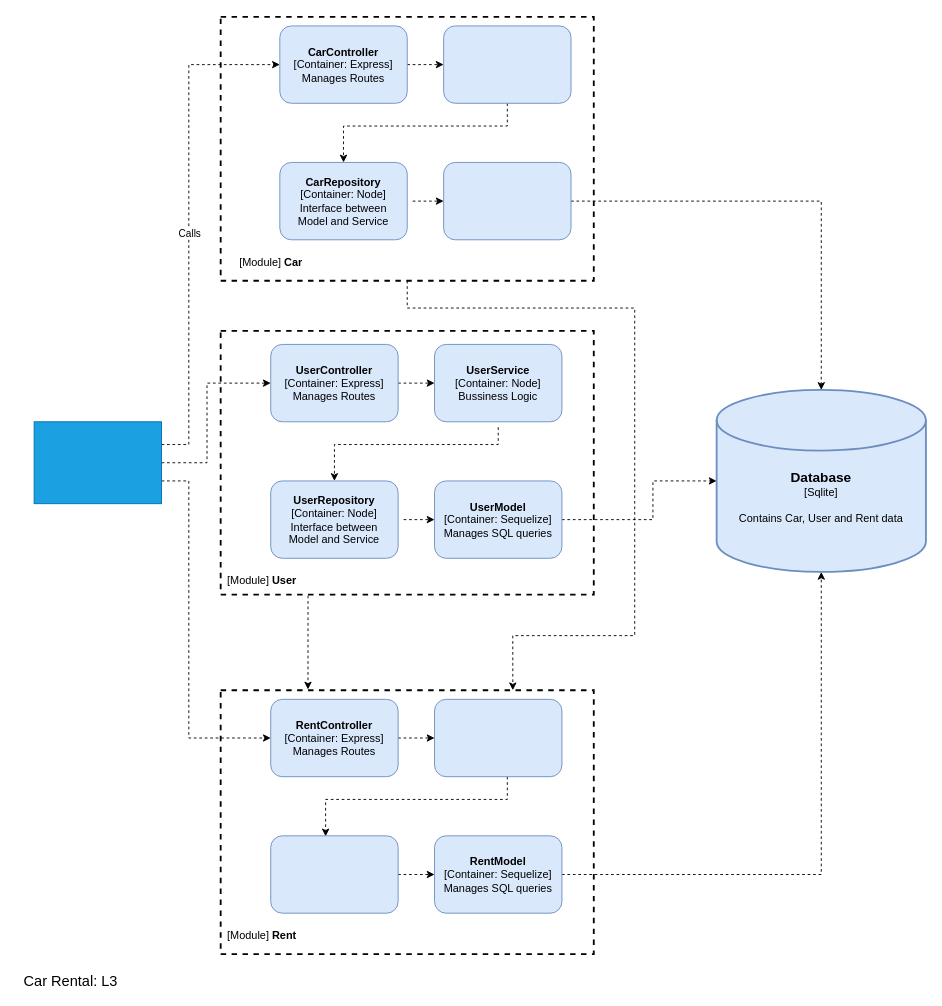
The diagram is 942 pixels wide and 1006 high, and some of its shapes have lost their labels. The shapes that lost their labels are listed below. From the top down, each one's centre as x and y in pixels, then its label:
[507,64]: CarService [Container: Node] Bussiness Logic
[507,201]: CarModel [Container: Sequelize] Manages SQL queries
[97,462]: Car Rental
[498,737]: RentService [Container: Node] Bussiness Logic
[334,874]: RentRepository [Container: Node] Interface between Model and Service
